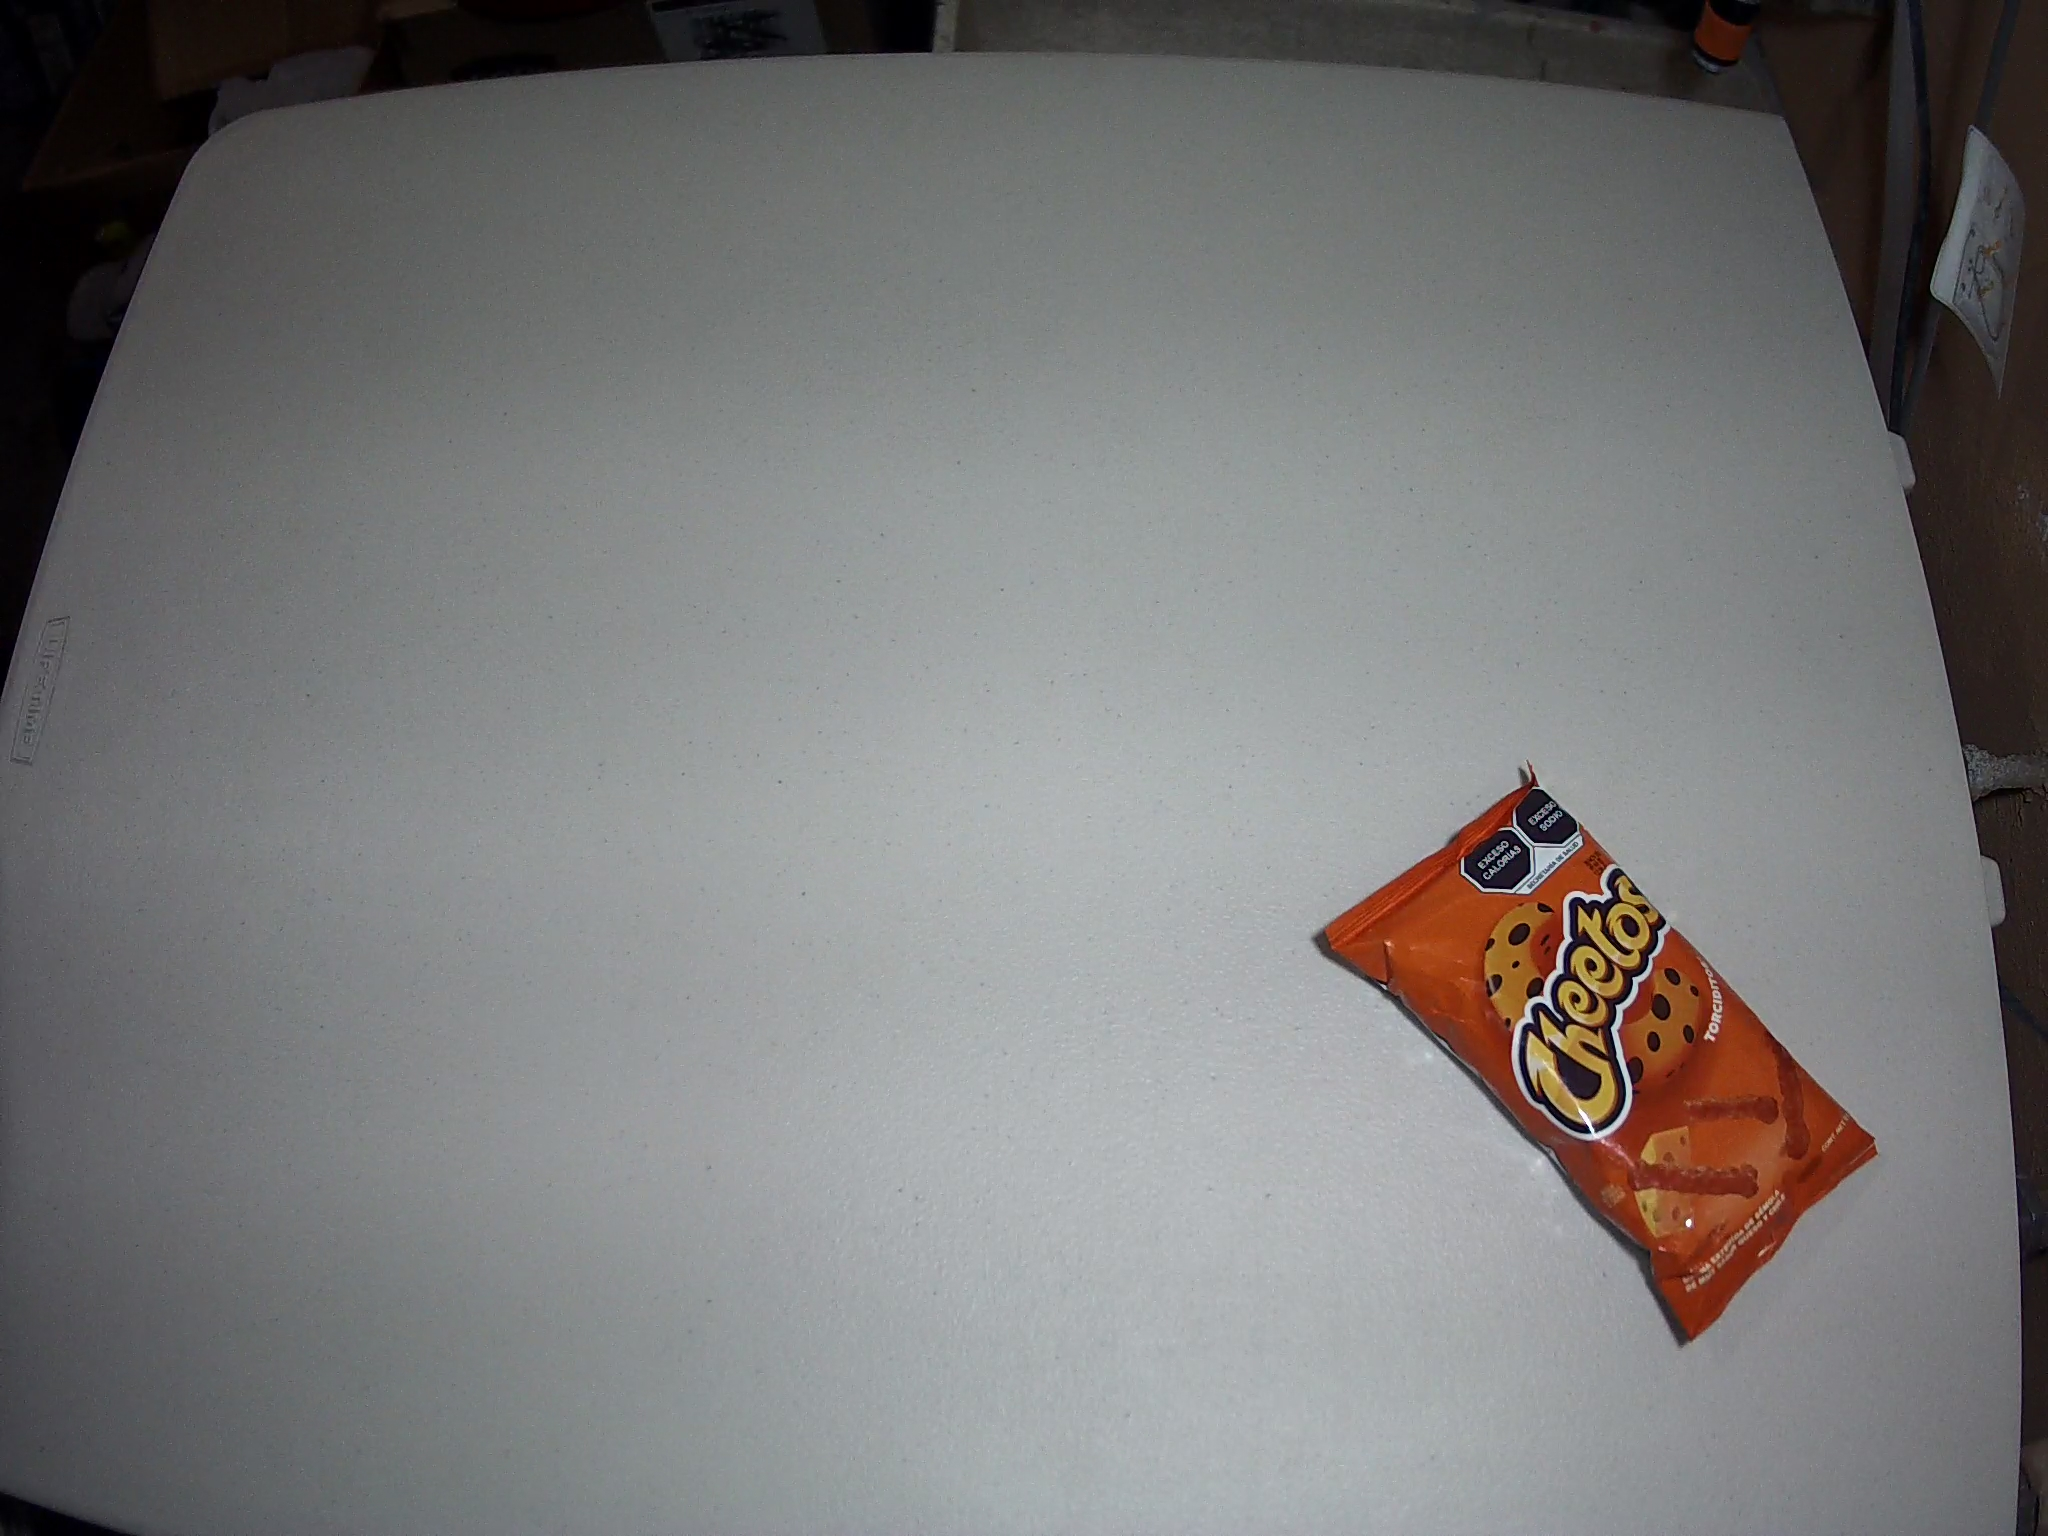CheetosTorciditos_55_F: (1321, 757, 1879, 1342)
